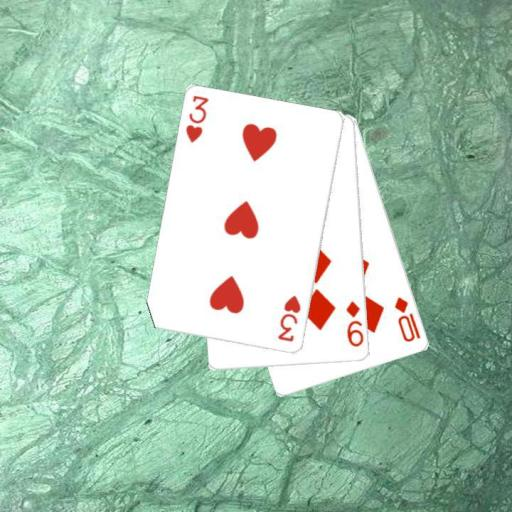10D: (392, 294, 422, 344)
3H: (183, 93, 210, 145), (275, 293, 302, 344)
9D: (343, 298, 364, 348)
